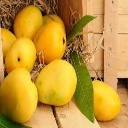mango: (35, 58, 77, 106)
